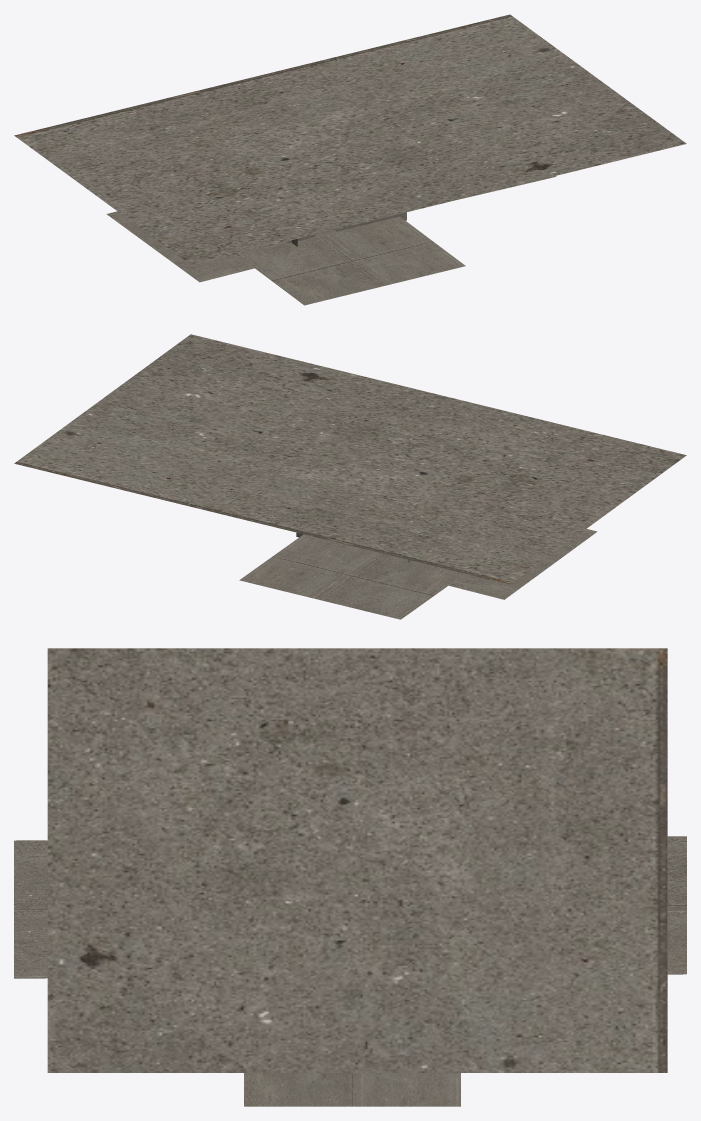
The model's file is 3drop_gallery_v72.glb.
3 renders of one model, top to bottom at view 1: azimuth 30°, elevation 25°; view 2: azimuth 150°, elevation 25°; view 3: azimuth 270°, elevation 25°, orthographic. The views are drawn at different scales.
Visible parts, largest first — view 1: frameConcreteExternalTop, sideLeftPlateformConcrete_grndPhys, backPlateformConcrete_grndPhys; view 2: frameConcreteExternalTop, sideRightPlateformConcrete_grndPhys.001, backPlateformConcrete_grndPhys; view 3: frameConcreteExternalTop, frontPlateformConcrete_grndPhys, sideLeftPlateformConcrete_grndPhys, sideRightPlateformConcrete_grndPhys.001.
Boxes of the visible parts, bbox=[...] form: frameConcreteExternalTop: bbox=[14, 14, 686, 264]; sideLeftPlateformConcrete_grndPhys: bbox=[239, 216, 465, 305]; backPlateformConcrete_grndPhys: bbox=[106, 211, 313, 282]; frameConcreteExternalTop: bbox=[14, 334, 686, 584]; sideRightPlateformConcrete_grndPhys.001: bbox=[239, 534, 464, 619]; backPlateformConcrete_grndPhys: bbox=[449, 529, 597, 599]; frameConcreteExternalTop: bbox=[47, 648, 667, 1072]; frontPlateformConcrete_grndPhys: bbox=[244, 1073, 460, 1106]; sideLeftPlateformConcrete_grndPhys: bbox=[14, 840, 47, 978]; sideRightPlateformConcrete_grndPhys.001: bbox=[667, 836, 686, 974].
Size of the model in its own units: 348 by 43.59 by 233.
3 materials, 3 textured.
